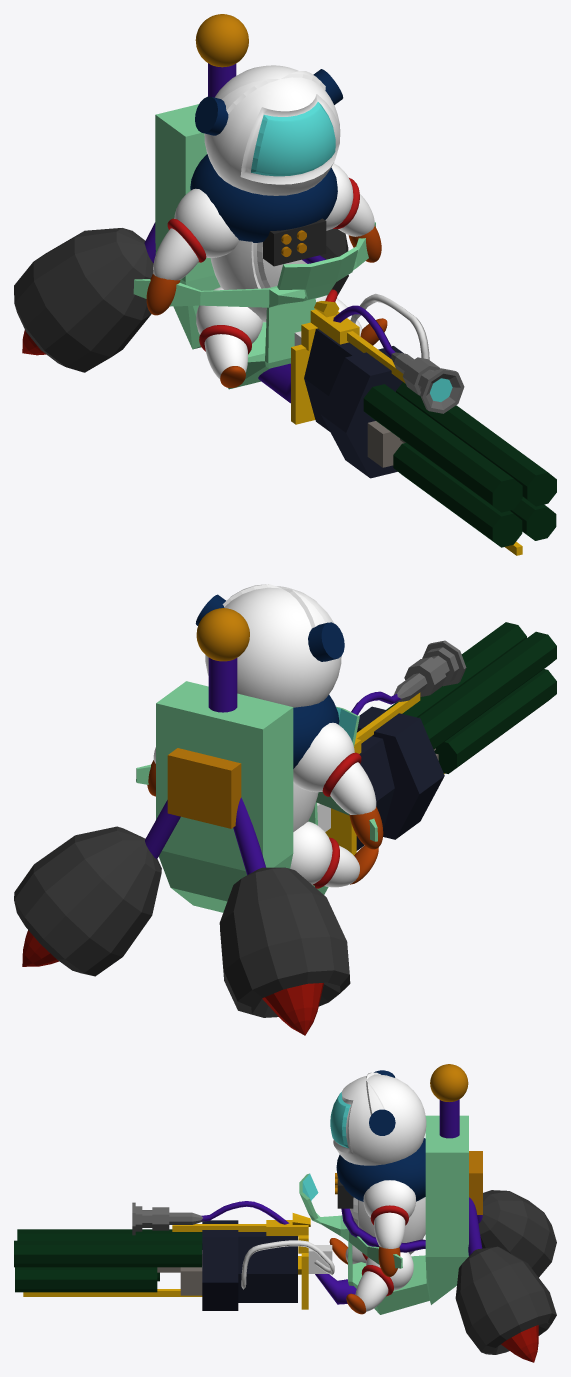
The model's file is Character.FBX.
3 views of the same model, one above another, from view 1: azimuth 30°, elevation 25°; view 2: azimuth 150°, elevation 25°; view 3: azimuth 270°, elevation 25° (orthographic). The views are drawn at different scales.
Parts seen in each view (by area): view 1: GunBarrels, RightThruster, Pack, Head, Neck, GunDisk, Body, GunSight, GunBase, RightShoulder, Sphere001, GunSightSupport (+14 smaller); view 2: Pack, RightThruster, RightThruster001, GunBarrels, Head, GunDisk, Box001, GunSight, RightShoulder, Sphere001, RightThigh, GunBase (+10 smaller); view 3: GunBarrels, Pack, RightThruster001, Head, RightThruster, GunBase, GunDisk, Neck, GunSightSupport, LeftShoulder, GunSight, Body (+16 smaller).
Boxes of the visible parts, left/top/right/bottom form: GunBarrels: left=363, top=382, right=556, bottom=547; RightThruster: left=14, top=222, right=155, bottom=372; Pack: left=133, top=104, right=375, bottom=389; Head: left=204, top=65, right=340, bottom=195; Neck: left=190, top=154, right=337, bottom=242; GunDisk: left=321, top=346, right=403, bottom=478; Body: left=210, top=240, right=307, bottom=322; GunSight: left=391, top=352, right=464, bottom=413; GunBase: left=304, top=328, right=362, bottom=431; RightShoulder: left=174, top=188, right=238, bottom=257; Sphere001: left=195, top=14, right=248, bottom=67; GunSightSupport: left=310, top=301, right=405, bottom=383; Pack: left=136, top=681, right=377, bottom=912; RightThruster: left=219, top=797, right=350, bottom=1035; RightThruster001: left=14, top=800, right=180, bottom=976; GunBarrels: left=386, top=622, right=556, bottom=773; Head: left=205, top=584, right=341, bottom=707; GunDisk: left=357, top=706, right=444, bottom=839; Box001: left=167, top=748, right=241, bottom=828; GunSight: left=394, top=640, right=466, bottom=702; RightShoulder: left=293, top=722, right=354, bottom=792; Sphere001: left=196, top=608, right=249, bottom=661; RightThigh: left=290, top=821, right=332, bottom=884; GunBase: left=356, top=736, right=394, bottom=850; GunBarrels: left=14, top=1229, right=202, bottom=1292; Pack: left=299, top=1115, right=468, bottom=1314; RightThruster001: left=455, top=1197, right=556, bottom=1362; Head: left=330, top=1072, right=426, bottom=1165; RightThruster: left=477, top=1190, right=556, bottom=1277; GunBase: left=238, top=1232, right=297, bottom=1302; GunDisk: left=202, top=1220, right=238, bottom=1310; Neck: left=336, top=1138, right=425, bottom=1201; GunSightSupport: left=172, top=1213, right=310, bottom=1236; LeftShoulder: left=363, top=1180, right=415, bottom=1217; GunSight: left=132, top=1202, right=204, bottom=1235; Body: left=350, top=1197, right=425, bottom=1254.
Size of the model in its own units: 40.2 by 41.97 by 81.67.
